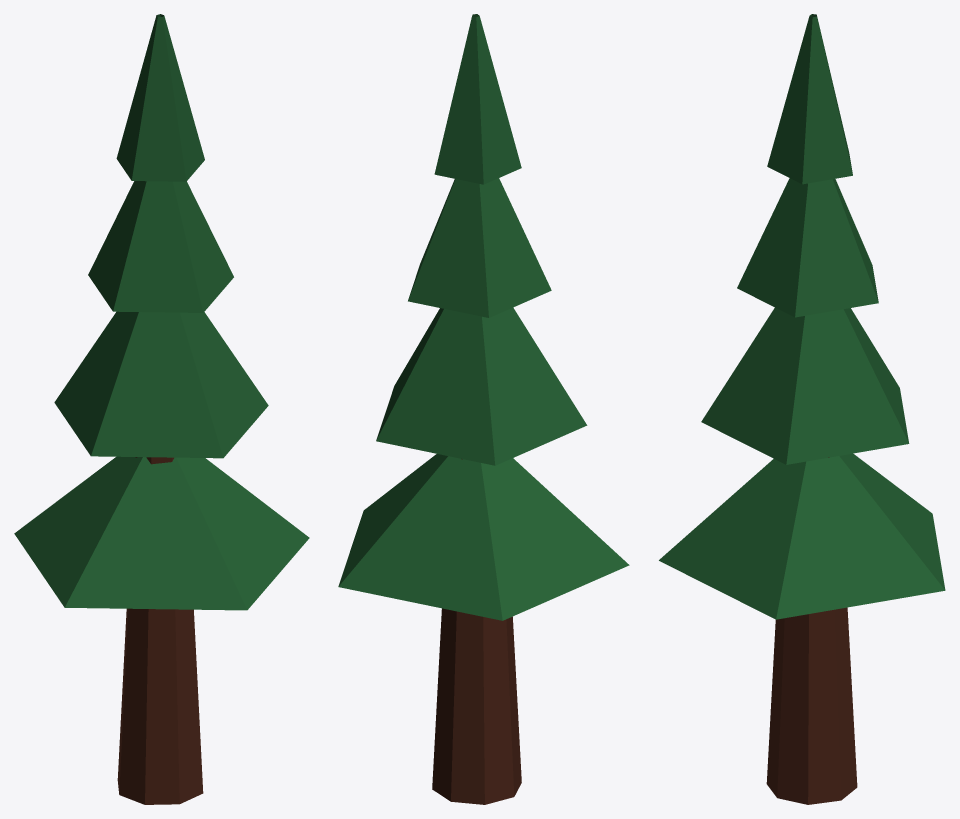
Rendered from Tree_2.fbx.
3 renders of one model, left to right at view 1: azimuth 30°, elevation 25°; view 2: azimuth 150°, elevation 25°; view 3: azimuth 270°, elevation 25°, orthographic.
Visible parts, largest first — view 1: Circle, Circle.003, Cylinder.002, Circle.002, Circle.001; view 2: Circle, Circle.003, Cylinder.002, Circle.002, Circle.001; view 3: Circle, Circle.003, Cylinder.002, Circle.002, Circle.001.
Boxes of the visible parts, x1,y1,x2,y2 form: Circle: (14, 456, 309, 610); Circle.003: (54, 311, 268, 458); Cylinder.002: (117, 457, 203, 804); Circle.002: (88, 181, 233, 312); Circle.001: (116, 14, 204, 181); Circle: (338, 454, 629, 620); Circle.003: (376, 307, 587, 465); Cylinder.002: (432, 459, 521, 804); Circle.002: (408, 178, 551, 317); Circle.001: (434, 14, 521, 184); Circle: (659, 453, 945, 619); Circle.003: (701, 307, 909, 464); Cylinder.002: (766, 457, 857, 804); Circle.002: (737, 178, 878, 317); Circle.001: (767, 14, 852, 184).
Size of the model in its own units: 90.45 by 261 by 87.99.
